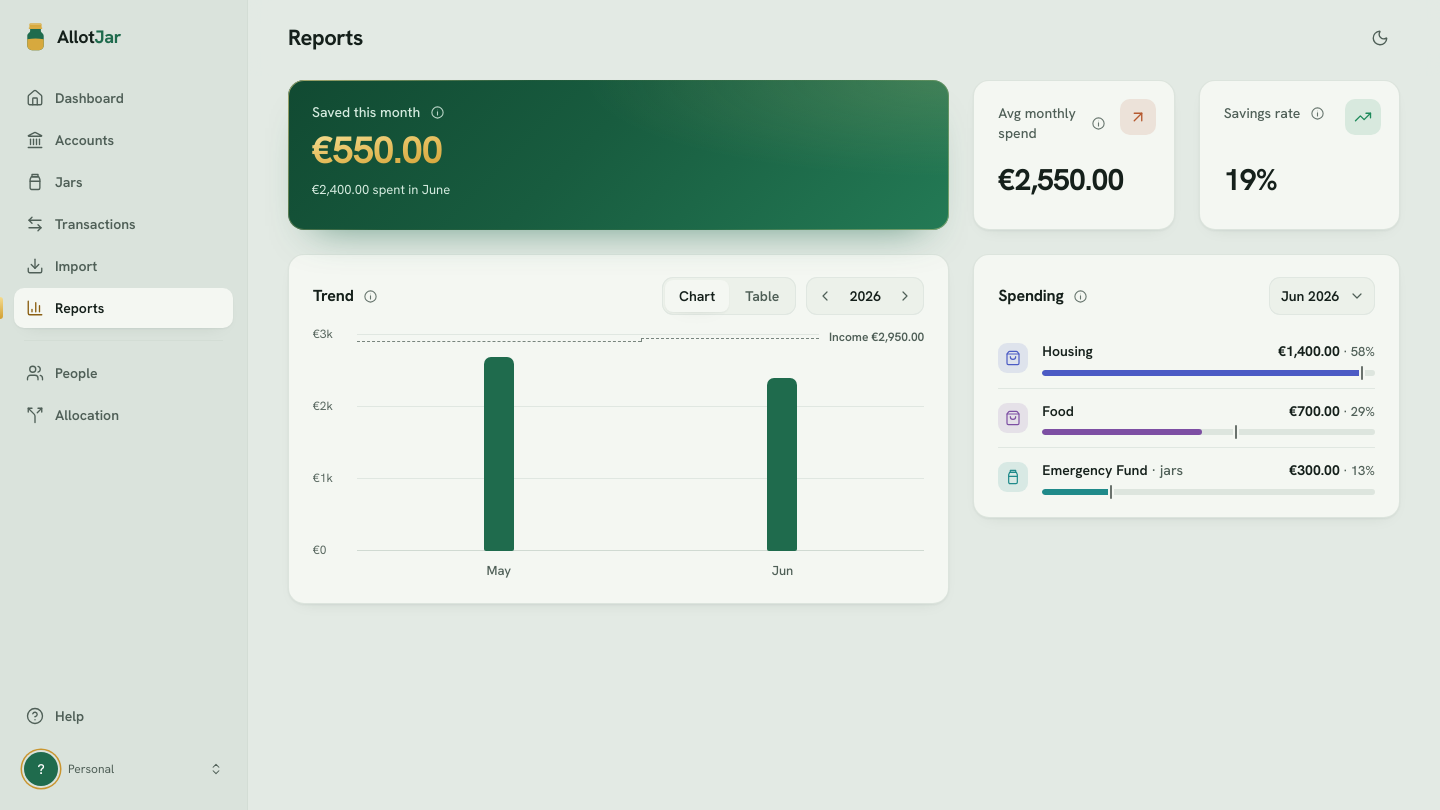
Test: ReportsPage — catalog (RPT) › draws a column per month and says every figure in the chart text (RPT-006)
Hover over the button named "About trend": [371, 296] box [360,285,382,307]
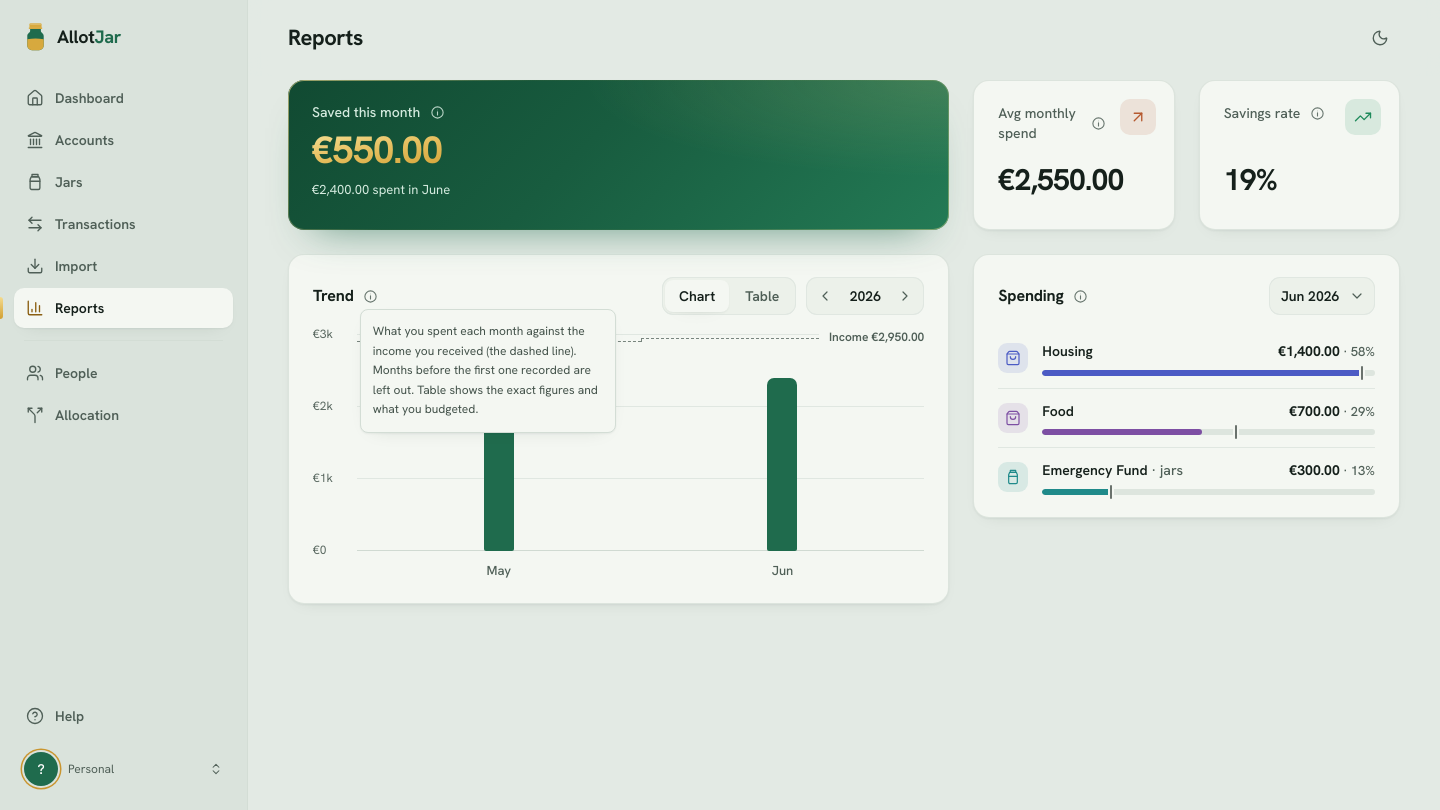
Expected: the tooltip shows "What you spent each month against the income you received (the dashed line).", [373,323,585,358]
Expected: the tooltip shows "Table shows the exact figures and what you budgeted.", [373,362,598,417]
